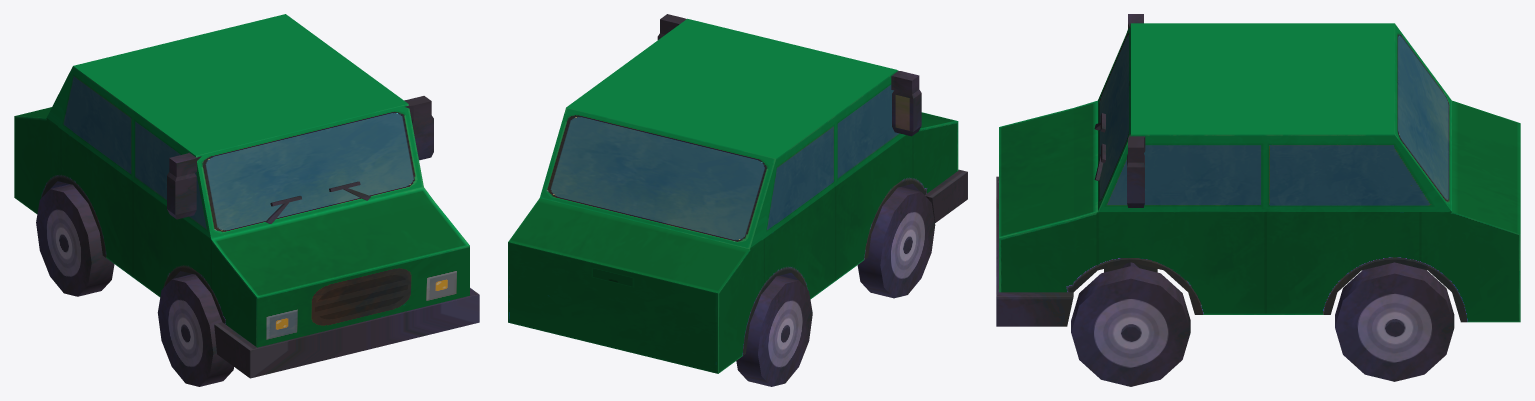
Rendered from CarKit.fbx_Car2.fbx.
The picture shows the model from 3 angles, left to right: view 1: azimuth 30°, elevation 25°; view 2: azimuth 150°, elevation 25°; view 3: azimuth 270°, elevation 25°; orthographic projection. The views are drawn at different scales.
Parts seen in each view (by area): view 1: Car.001; view 2: Car.001; view 3: Car.001.
Boxes of the visible parts, x1,y1,x2,y2 form: Car.001: (14,14,479,386); Car.001: (508,14,967,386); Car.001: (996,14,1520,386).
Size of the model in its own units: 221 by 186 by 362.
Materials: 1 (1 with a texture image).
